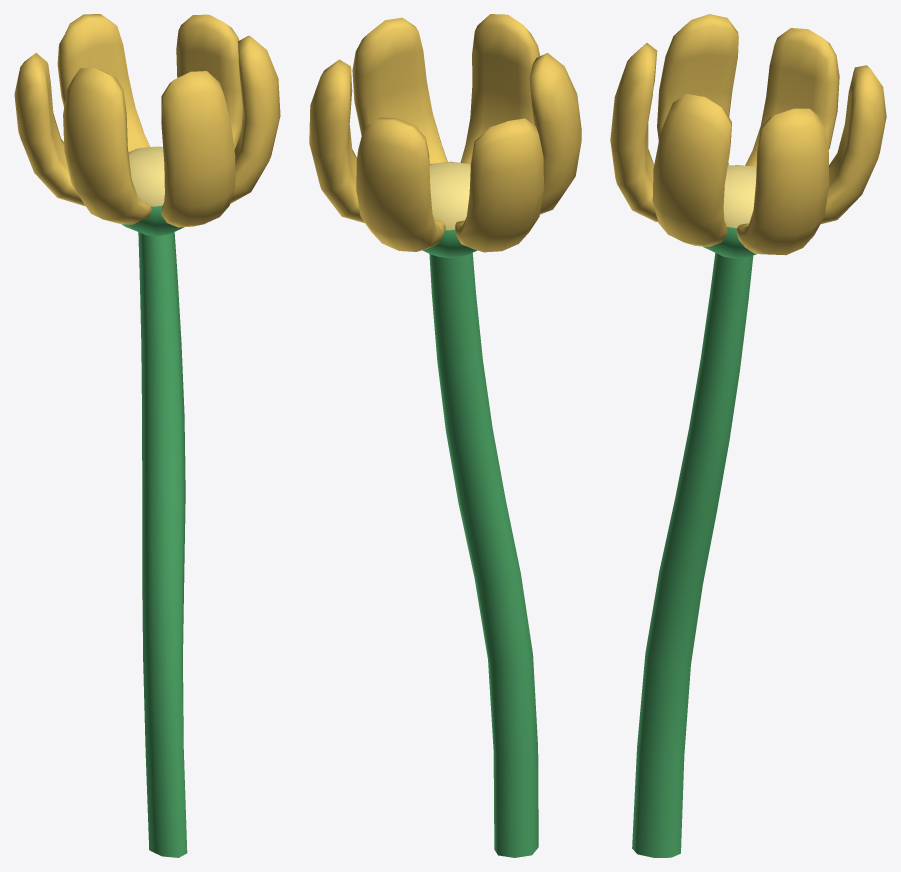
The model's file is Flower_B_01.fbx.
3 renders of one model, left to right at view 1: azimuth 30°, elevation 25°; view 2: azimuth 150°, elevation 25°; view 3: azimuth 270°, elevation 25°, orthographic. The views are drawn at different scales.
Visible parts, largest first — view 1: Flower_B_01_LOD0; view 2: Flower_B_01_LOD0; view 3: Flower_B_01_LOD0.
Part boxes in pixels (x1,y1,x2,y2): Flower_B_01_LOD0: [14, 14, 280, 857]; Flower_B_01_LOD0: [309, 14, 581, 857]; Flower_B_01_LOD0: [610, 14, 886, 857].
Size of what is drawn, in the model's own units: 171 by 588 by 181.
